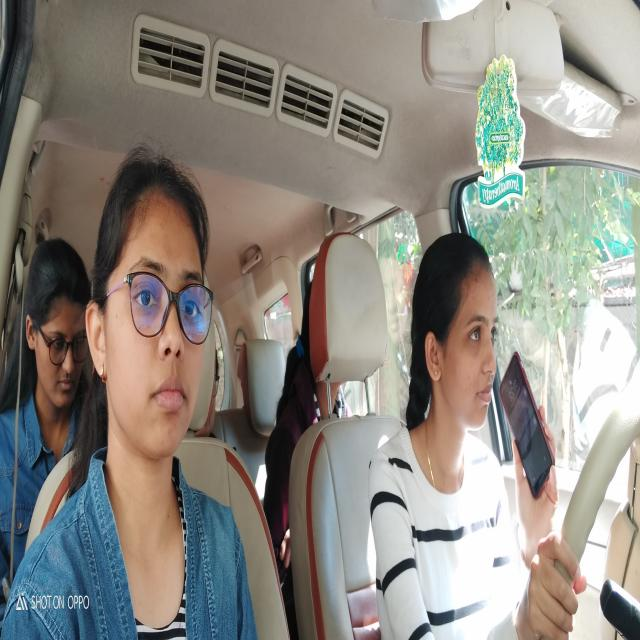person: (89, 144, 208, 484), (406, 228, 499, 450), (23, 238, 91, 424), (497, 347, 556, 502)
